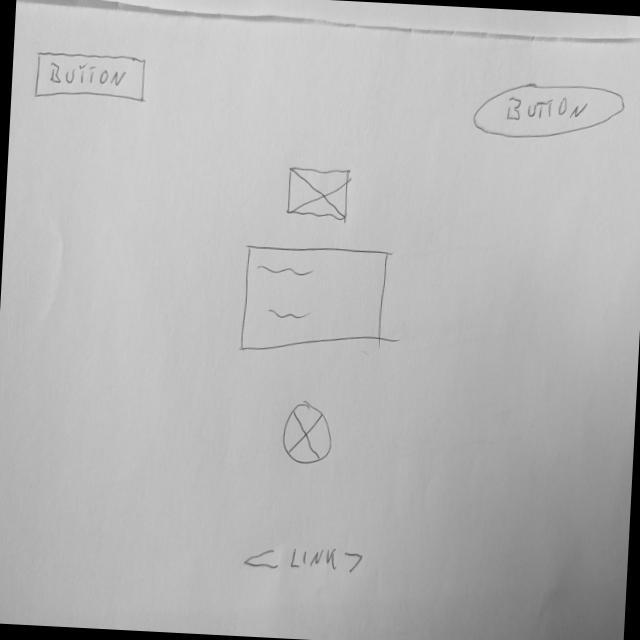button: (469, 78, 626, 146), (31, 46, 152, 106)
image: (285, 163, 352, 223), (279, 398, 336, 467)
link: (242, 540, 366, 577)
textarea: (236, 240, 390, 362)
